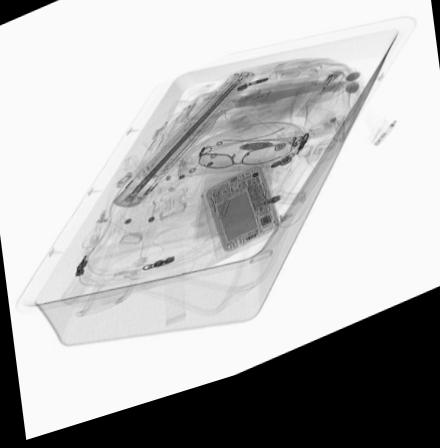Lighter: (293, 93, 343, 136)
